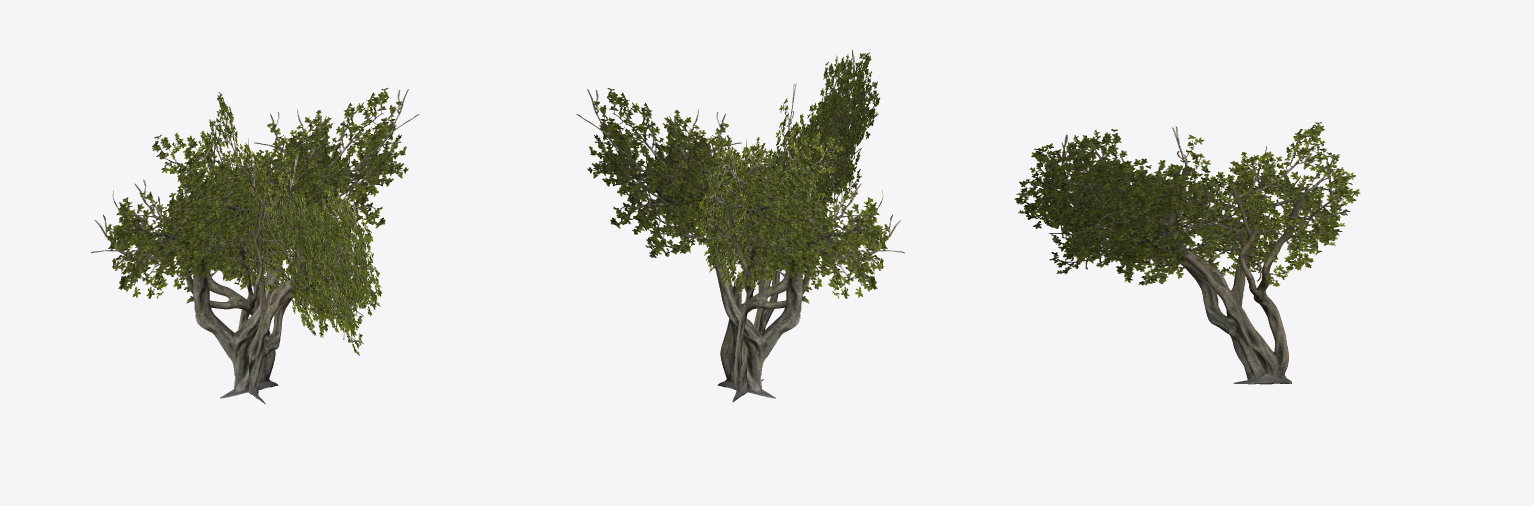
Rendered from tree_olive_lod1.glb.
The picture shows the model from 3 angles, left to right: view 1: azimuth 30°, elevation 25°; view 2: azimuth 150°, elevation 25°; view 3: azimuth 270°, elevation 25°; orthographic projection. The views are drawn at different scales.
Visible parts, largest first — view 1: tree_olive_far; view 2: tree_olive_far; view 3: tree_olive_far.
Boxes of the visible parts, left/top/right/bottom form: tree_olive_far: left=91, top=88, right=419, bottom=404; tree_olive_far: left=576, top=50, right=904, bottom=402; tree_olive_far: left=1014, top=121, right=1360, bottom=384.
Size of the model in its own units: 5.99 by 3.41 by 5.99.
1 material, 1 textured.
